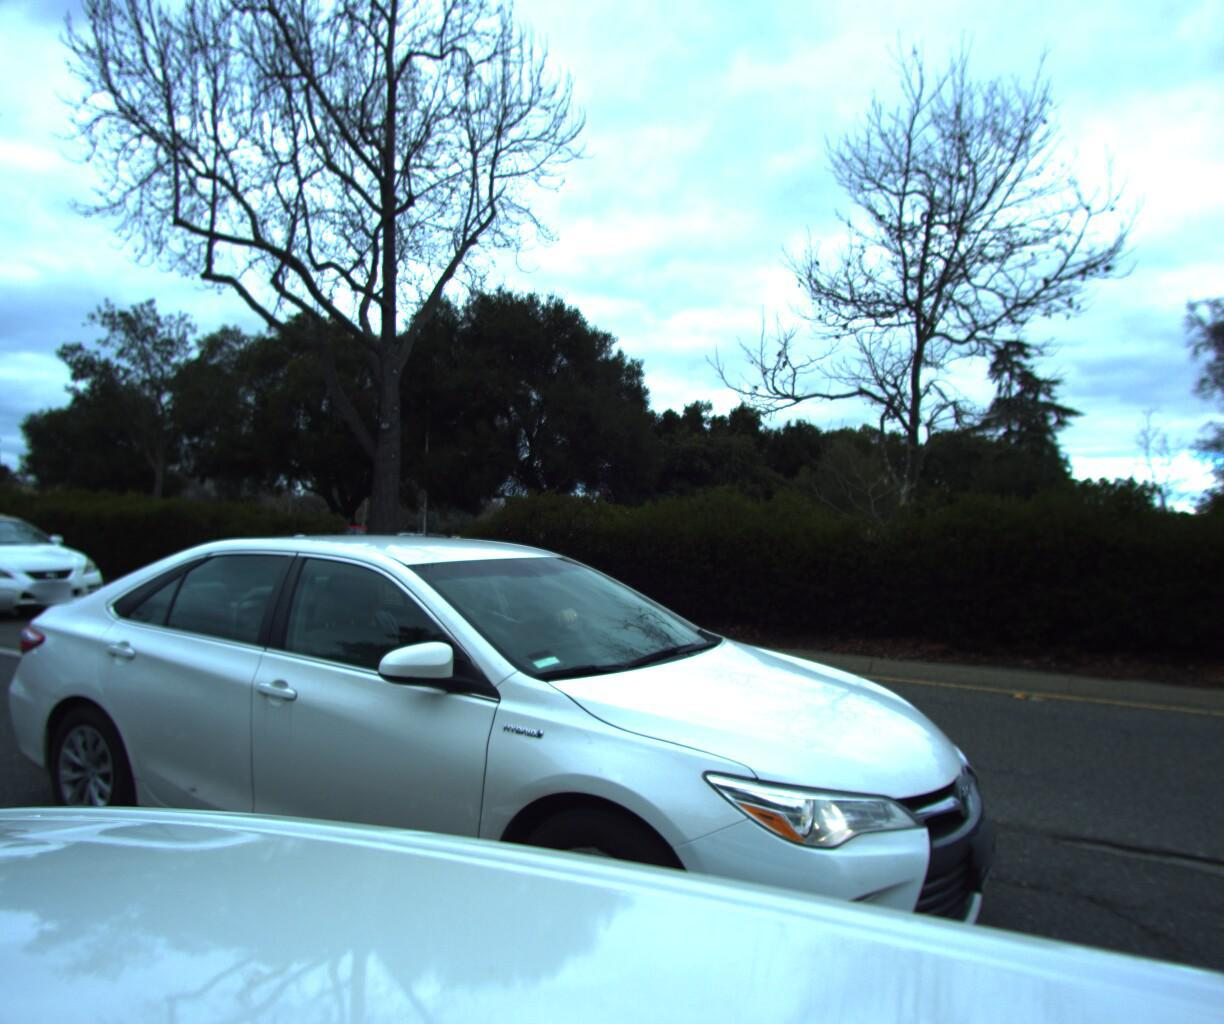car: (0, 516, 1003, 1024), (0, 507, 121, 638), (289, 519, 400, 561)
